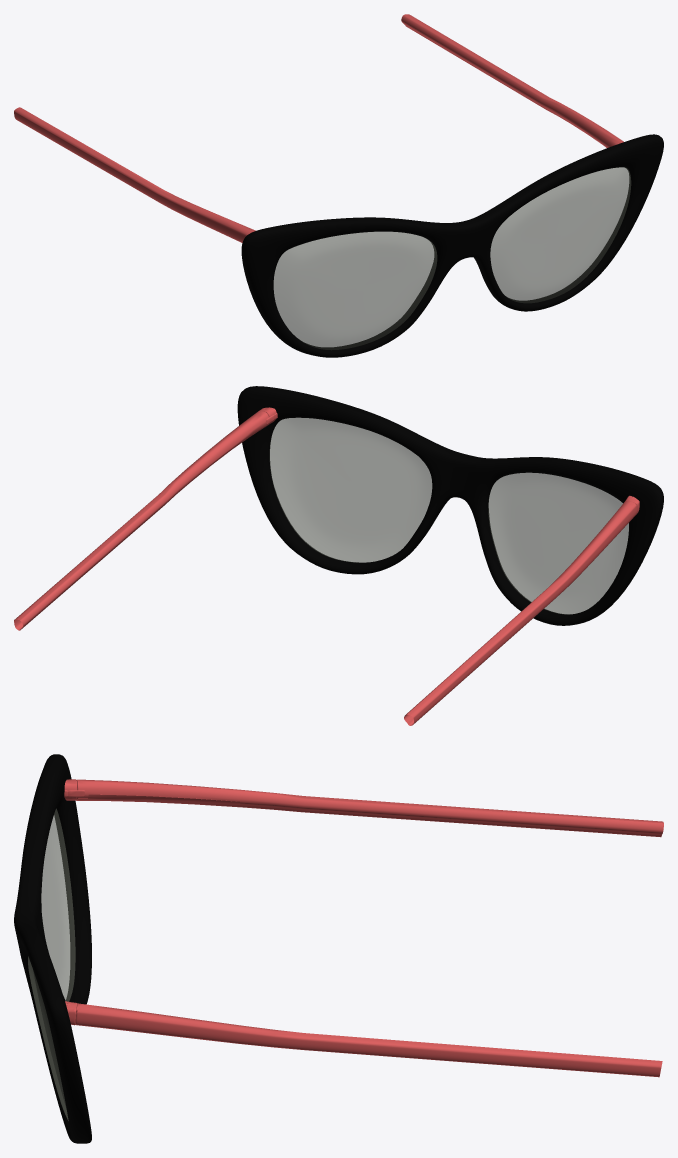
The model's file is glasses-8.glb.
The picture shows the model from 3 angles, top to bottom: view 1: azimuth 30°, elevation 25°; view 2: azimuth 150°, elevation 25°; view 3: azimuth 270°, elevation 25°; orthographic projection. The views are drawn at different scales.
Parts seen in each view (by area): view 1: glasses, frame, bow_right.001, bow_left.001; view 2: glasses, frame, bow_right.001, bow_left.001; view 3: frame, bow_left.001, bow_right.001, glasses.
Part boxes in pixels (x1,y1,x2,y2): glasses: (273,167,631,350); frame: (241,134,663,357); bow_right.001: (14,107,255,242); bow_left.001: (401,14,623,147); glasses: (269,417,628,614); frame: (237,386,663,625); bow_right.001: (404,495,639,725); bow_left.001: (14,407,277,630); frame: (14,754,91,1143); bow_left.001: (65,1001,662,1077); bow_right.001: (64,779,663,837); glasses: (28,808,75,1120).
Bounding box in the file's own units: 17.27 × 6.06 × 18.35.
